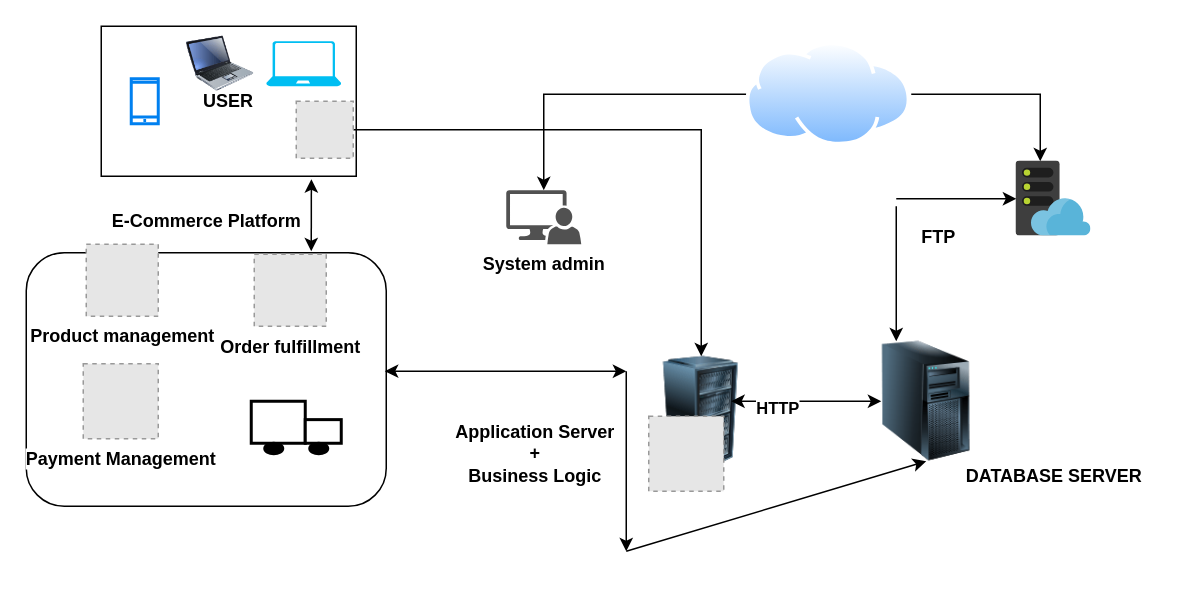
This 1178x590 diagram has some shape labels left out. Grey dashed boxes stand in for pictures. The shapes that lost their labels are listed below. From the top down, each one's box as (x1, y1, x2, y2) in pixels, then its label:
(746, 42, 910, 146): Internet
(249, 399, 342, 454): Delivery
